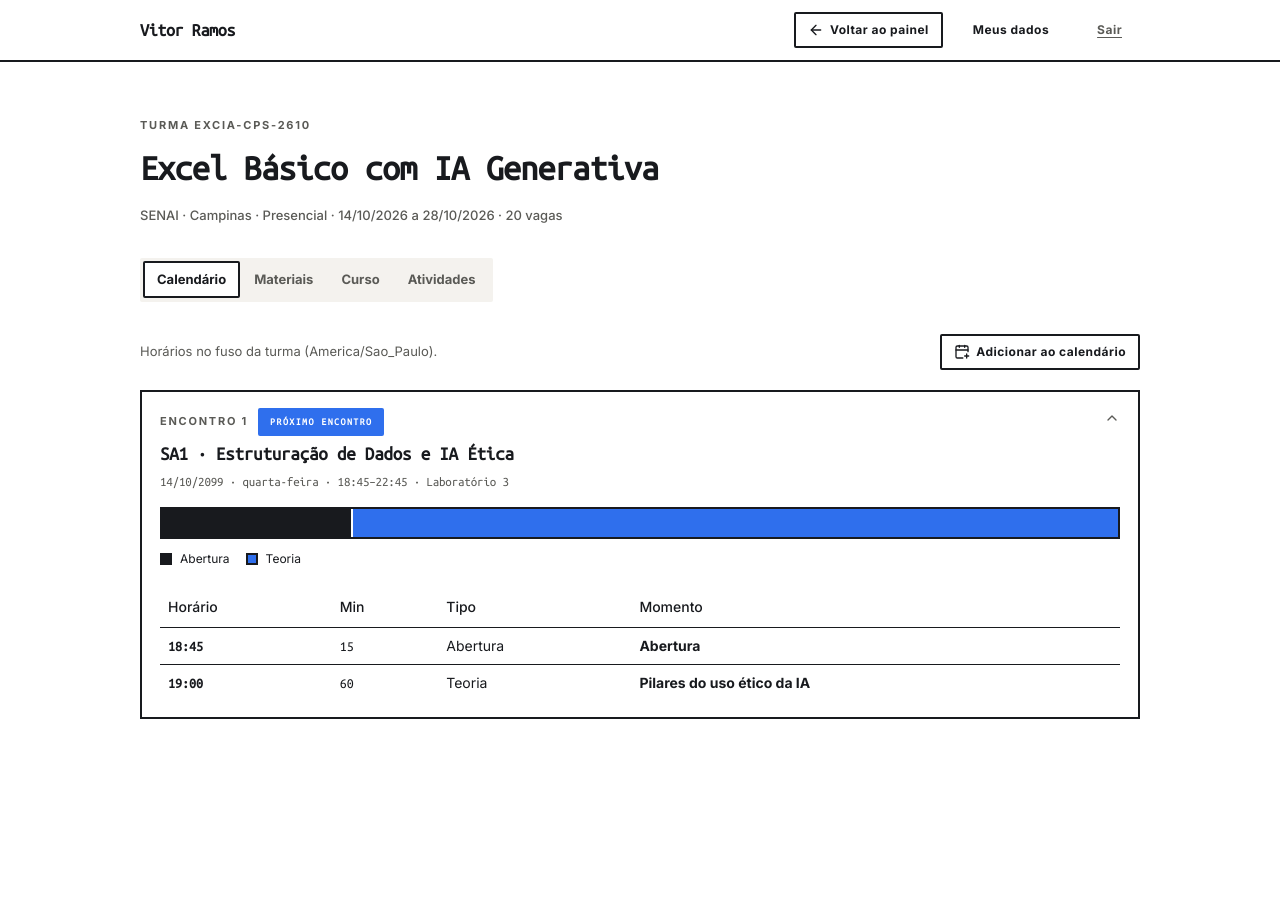
Test case: Turma do aluno › agrupa materiais por encontro, com os gerais primeiro, e mostra o curso
Click the tab "Materiais": point(284, 280) [240,261,327,298]
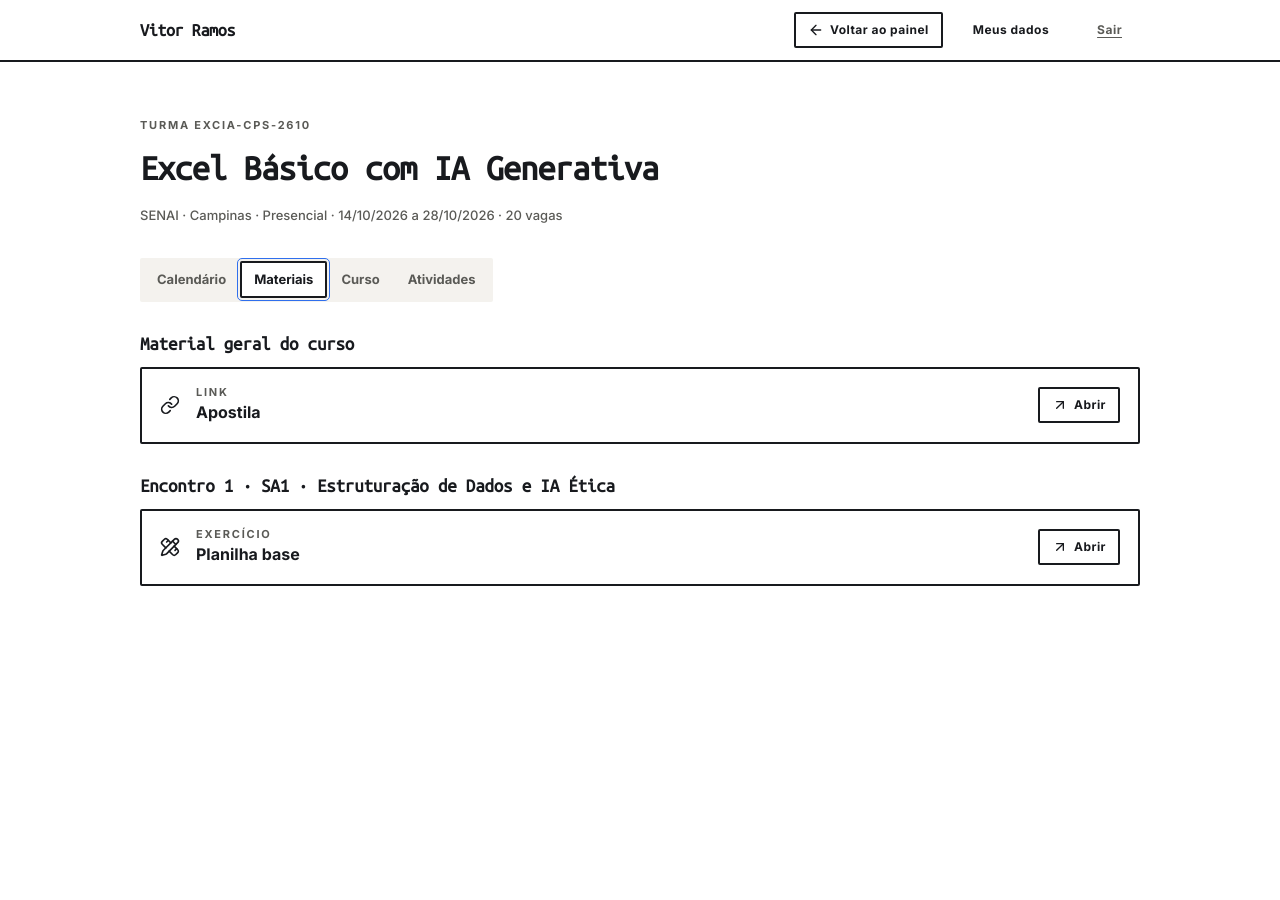
Check: the headings read "Material geral do curso", "Encontro 1 · SA1 · Estruturação de Dados e IA Ética", in this order, box [140,334,354,353]; [140,476,615,495]
Check: the text "Apostila" is shown, box [196,402,261,422]
Click the tab "Curso": point(361, 280) [327,261,394,298]
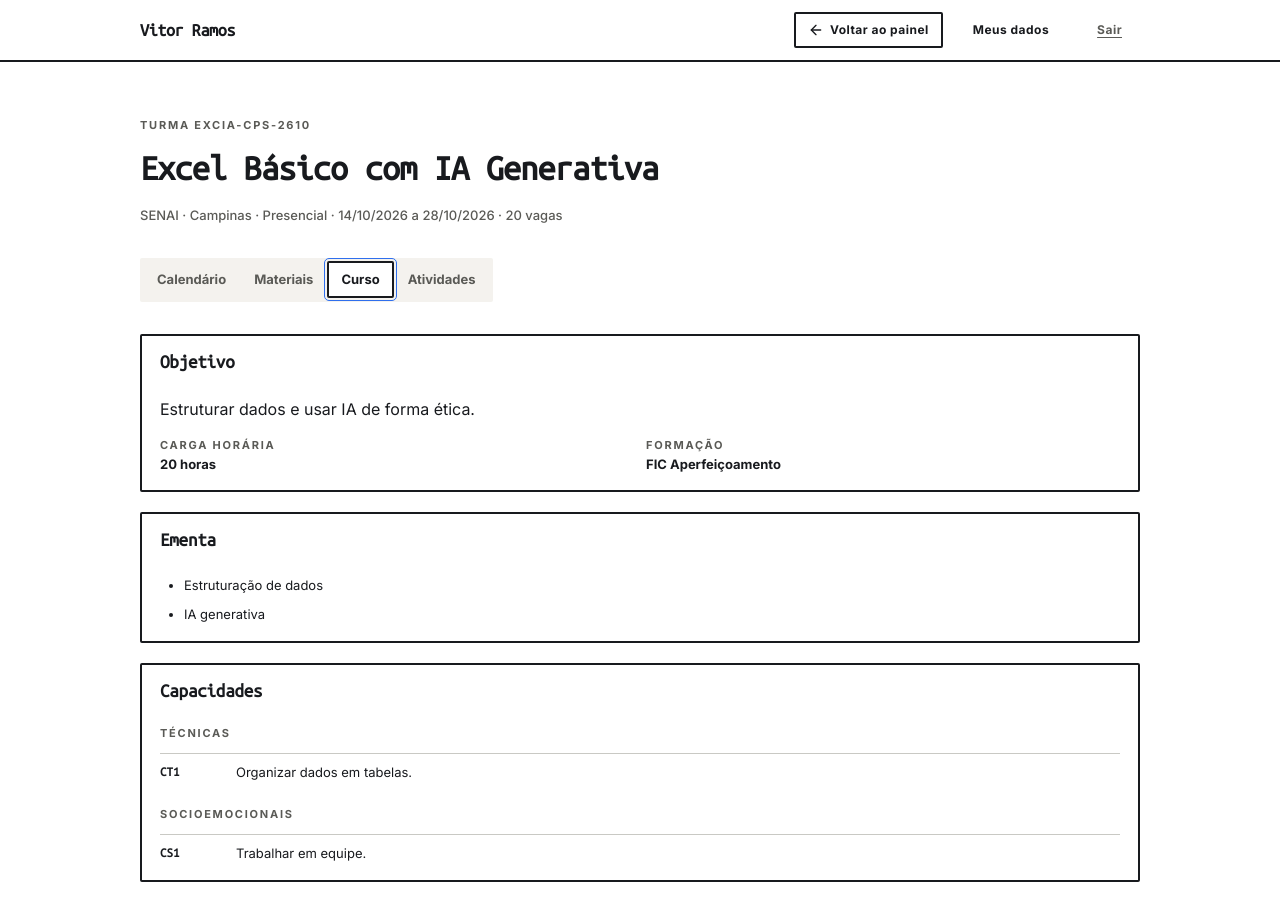
Check: the text "20 horas" is shown, box [160,456,216,472]
Check: the text "CT1" is shown, box [160,765,180,778]
Check: the text "Socioemocionais" is shown, box [160,807,294,821]
